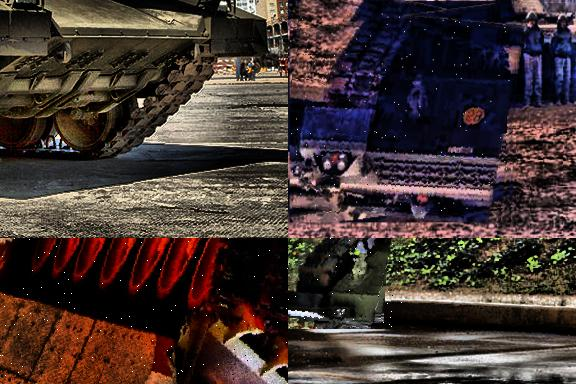tanks: (290, 14, 516, 223), (1, 1, 265, 160), (1, 239, 289, 384), (439, 1, 557, 105), (289, 239, 394, 330), (396, 1, 407, 2)
